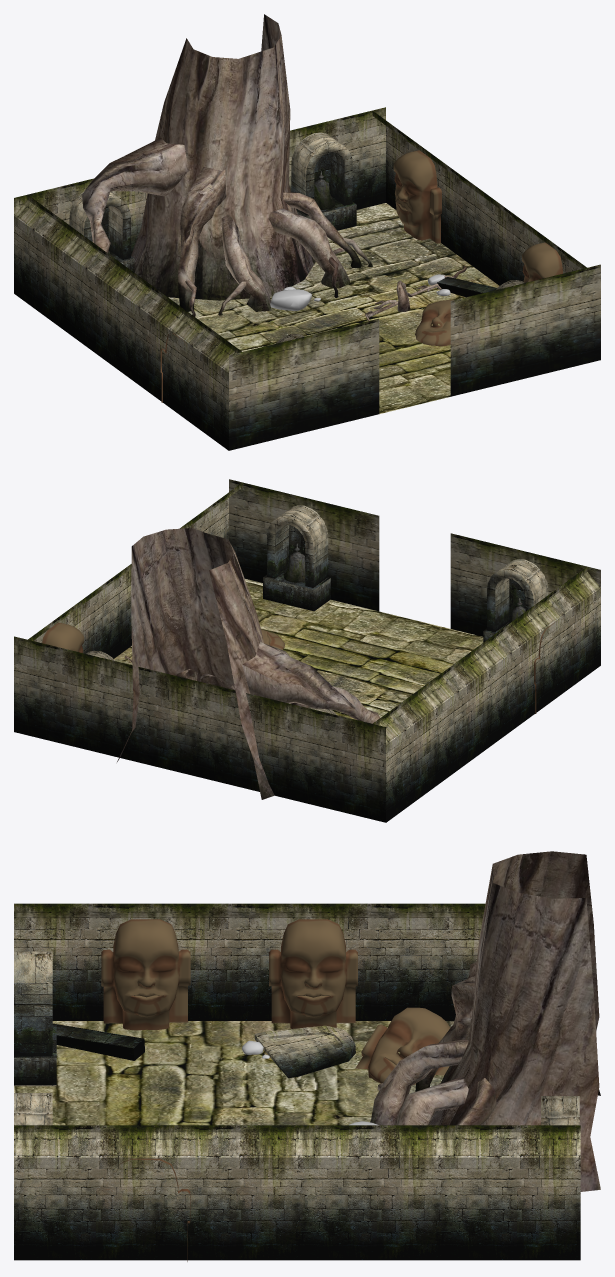
3 renders of one model, top to bottom at view 1: azimuth 30°, elevation 25°; view 2: azimuth 150°, elevation 25°; view 3: azimuth 270°, elevation 25°, orthographic. The views are drawn at different scales.
Parts seen in each view (by area): view 1: main_tree, left_wall, main_floor, gate_right_wall, gate_left_wall, right_wall, center_tree_wall, rumah_stupa_003, buddha_head_008, rumah_stupa_000, buddha_head_007, buddha_head_002 (+3 smaller); view 2: center_tree_wall, main_tree, left_wall, main_floor, gate_right_wall, gate_left_wall, right_wall, rumah_stupa_002, rumah_stupa_01, buddha_head_008, Circle_002; view 3: right_wall, main_tree, left_wall, main_floor, buddha_head_3, buddha_head_000, rumah_stupa_01, buddha_head_001, Plane, Cube_002, rumah_stupa_002, rumah_stupa_003.
Part boxes in pixels (left/top/right/bottom): main_tree: left=82, top=14, right=372, bottom=316; left_wall: left=14, top=195, right=241, bottom=450; main_floor: left=168, top=203, right=499, bottom=413; gate_right_wall: left=450, top=264, right=600, bottom=396; gate_left_wall: left=229, top=318, right=379, bottom=450; right_wall: left=372, top=110, right=586, bottom=285; center_tree_wall: left=14, top=107, right=385, bottom=254; rumah_stupa_003: left=291, top=132, right=356, bottom=230; buddha_head_008: left=393, top=150, right=441, bottom=243; rumah_stupa_000: left=69, top=192, right=134, bottom=272; buddha_head_007: left=415, top=299, right=454, bottom=346; buddha_head_002: left=522, top=242, right=562, bottom=282; center_tree_wall: left=14, top=636, right=385, bottom=822; main_tree: left=117, top=528, right=379, bottom=799; left_wall: left=373, top=567, right=600, bottom=822; main_floor: left=114, top=579, right=483, bottom=719; gate_right_wall: left=229, top=479, right=379, bottom=611; gate_left_wall: left=450, top=533, right=600, bottom=636; right_wall: left=28, top=482, right=242, bottom=658; rumah_stupa_002: left=263, top=505, right=330, bottom=611; rumah_stupa_01: left=483, top=559, right=548, bottom=642; buddha_head_008: left=42, top=622, right=84, bottom=652; Circle_002: left=283, top=543, right=305, bottom=582; right_wall: left=14, top=1125, right=580, bottom=1260; main_tree: left=370, top=851, right=600, bottom=1191; left_wall: left=14, top=903, right=485, bottom=1020; main_floor: left=14, top=1021, right=454, bottom=1125; buddha_head_3: left=101, top=919, right=190, bottom=1030; buddha_head_000: left=269, top=919, right=357, bottom=1028; rumah_stupa_01: left=14, top=951, right=56, bottom=1086; buddha_head_001: left=355, top=1007, right=450, bottom=1085; Plane: left=254, top=1025, right=355, bottom=1078; Cube_002: left=52, top=1023, right=144, bottom=1060; rumah_stupa_002: left=14, top=1093, right=52, bottom=1125; rumah_stupa_003: left=541, top=1096, right=579, bottom=1125.
Size of the model in its own units: 20.28 by 20.72 by 12.8.
